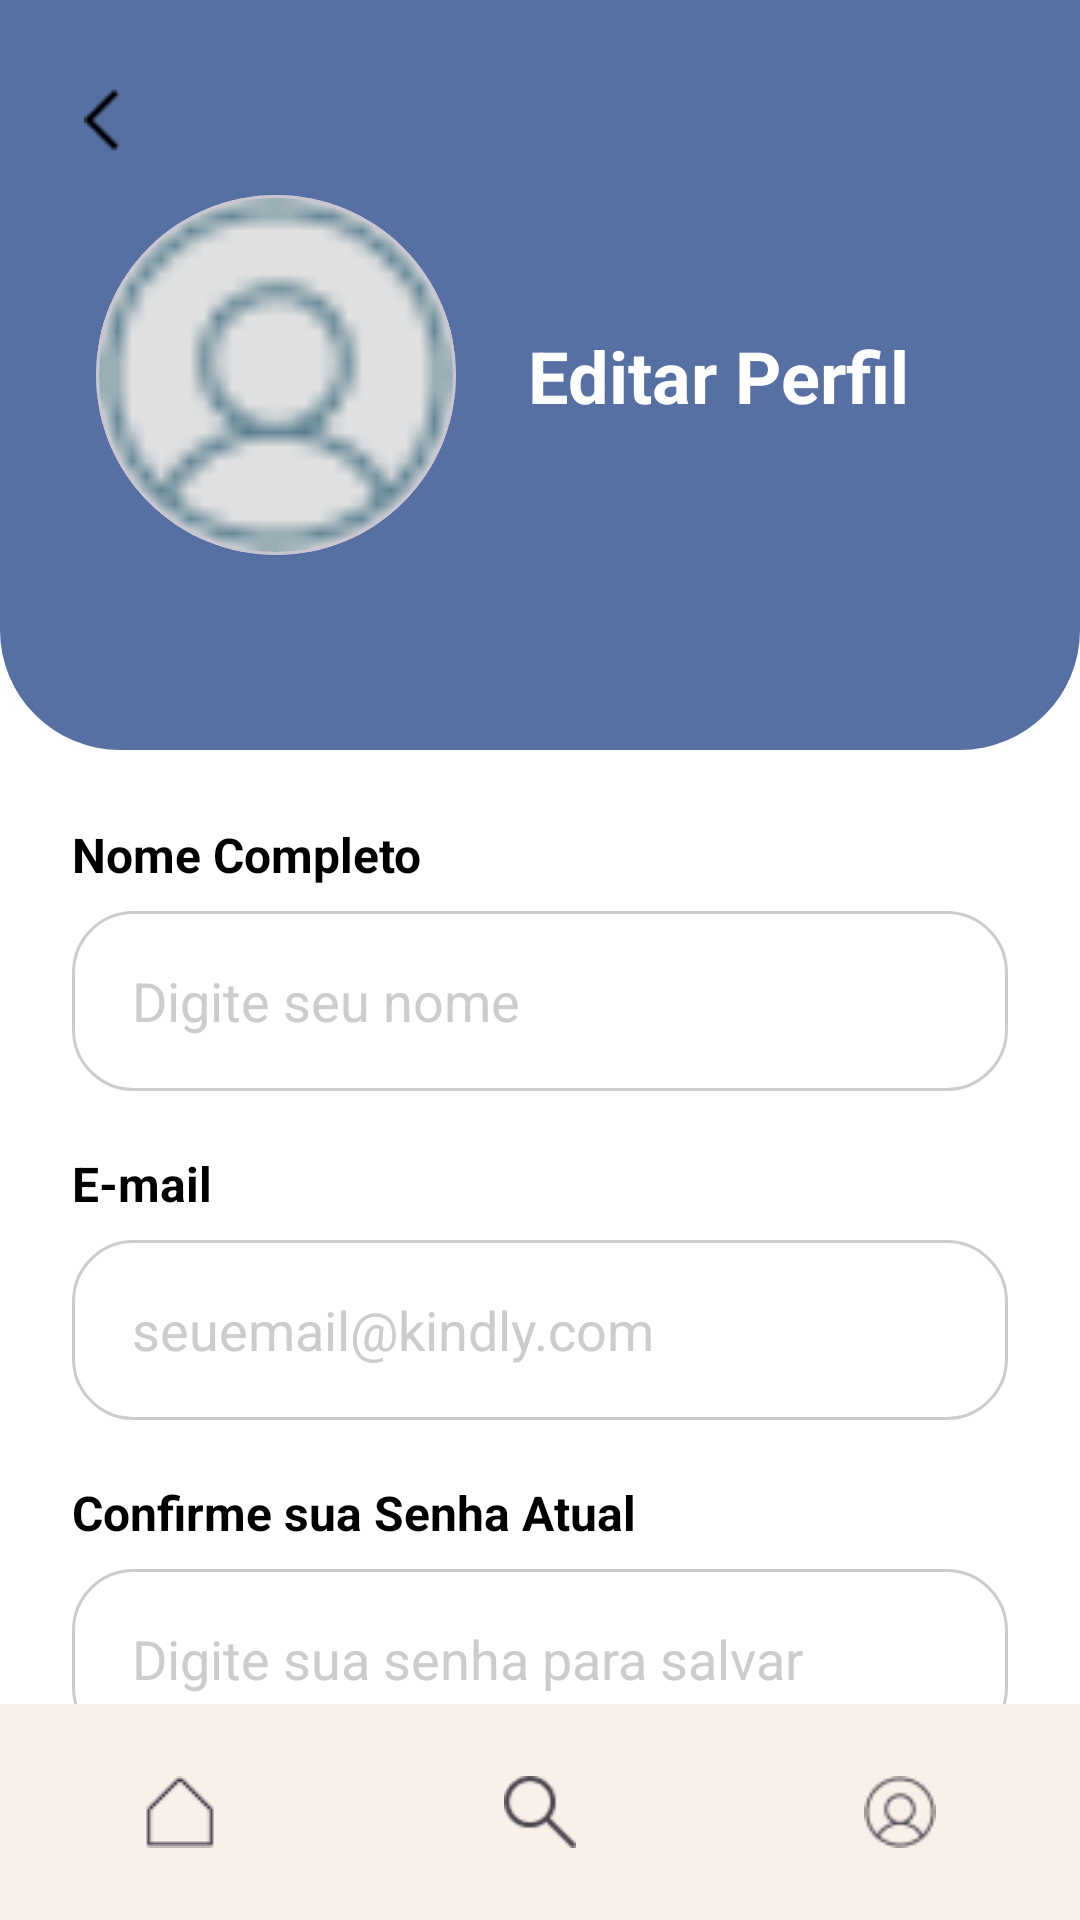

Where icons sit on this 1080x1920 app screen, as Rect(x1, y1, x2, y2):
back arrow: Rect(84, 89, 119, 151)
